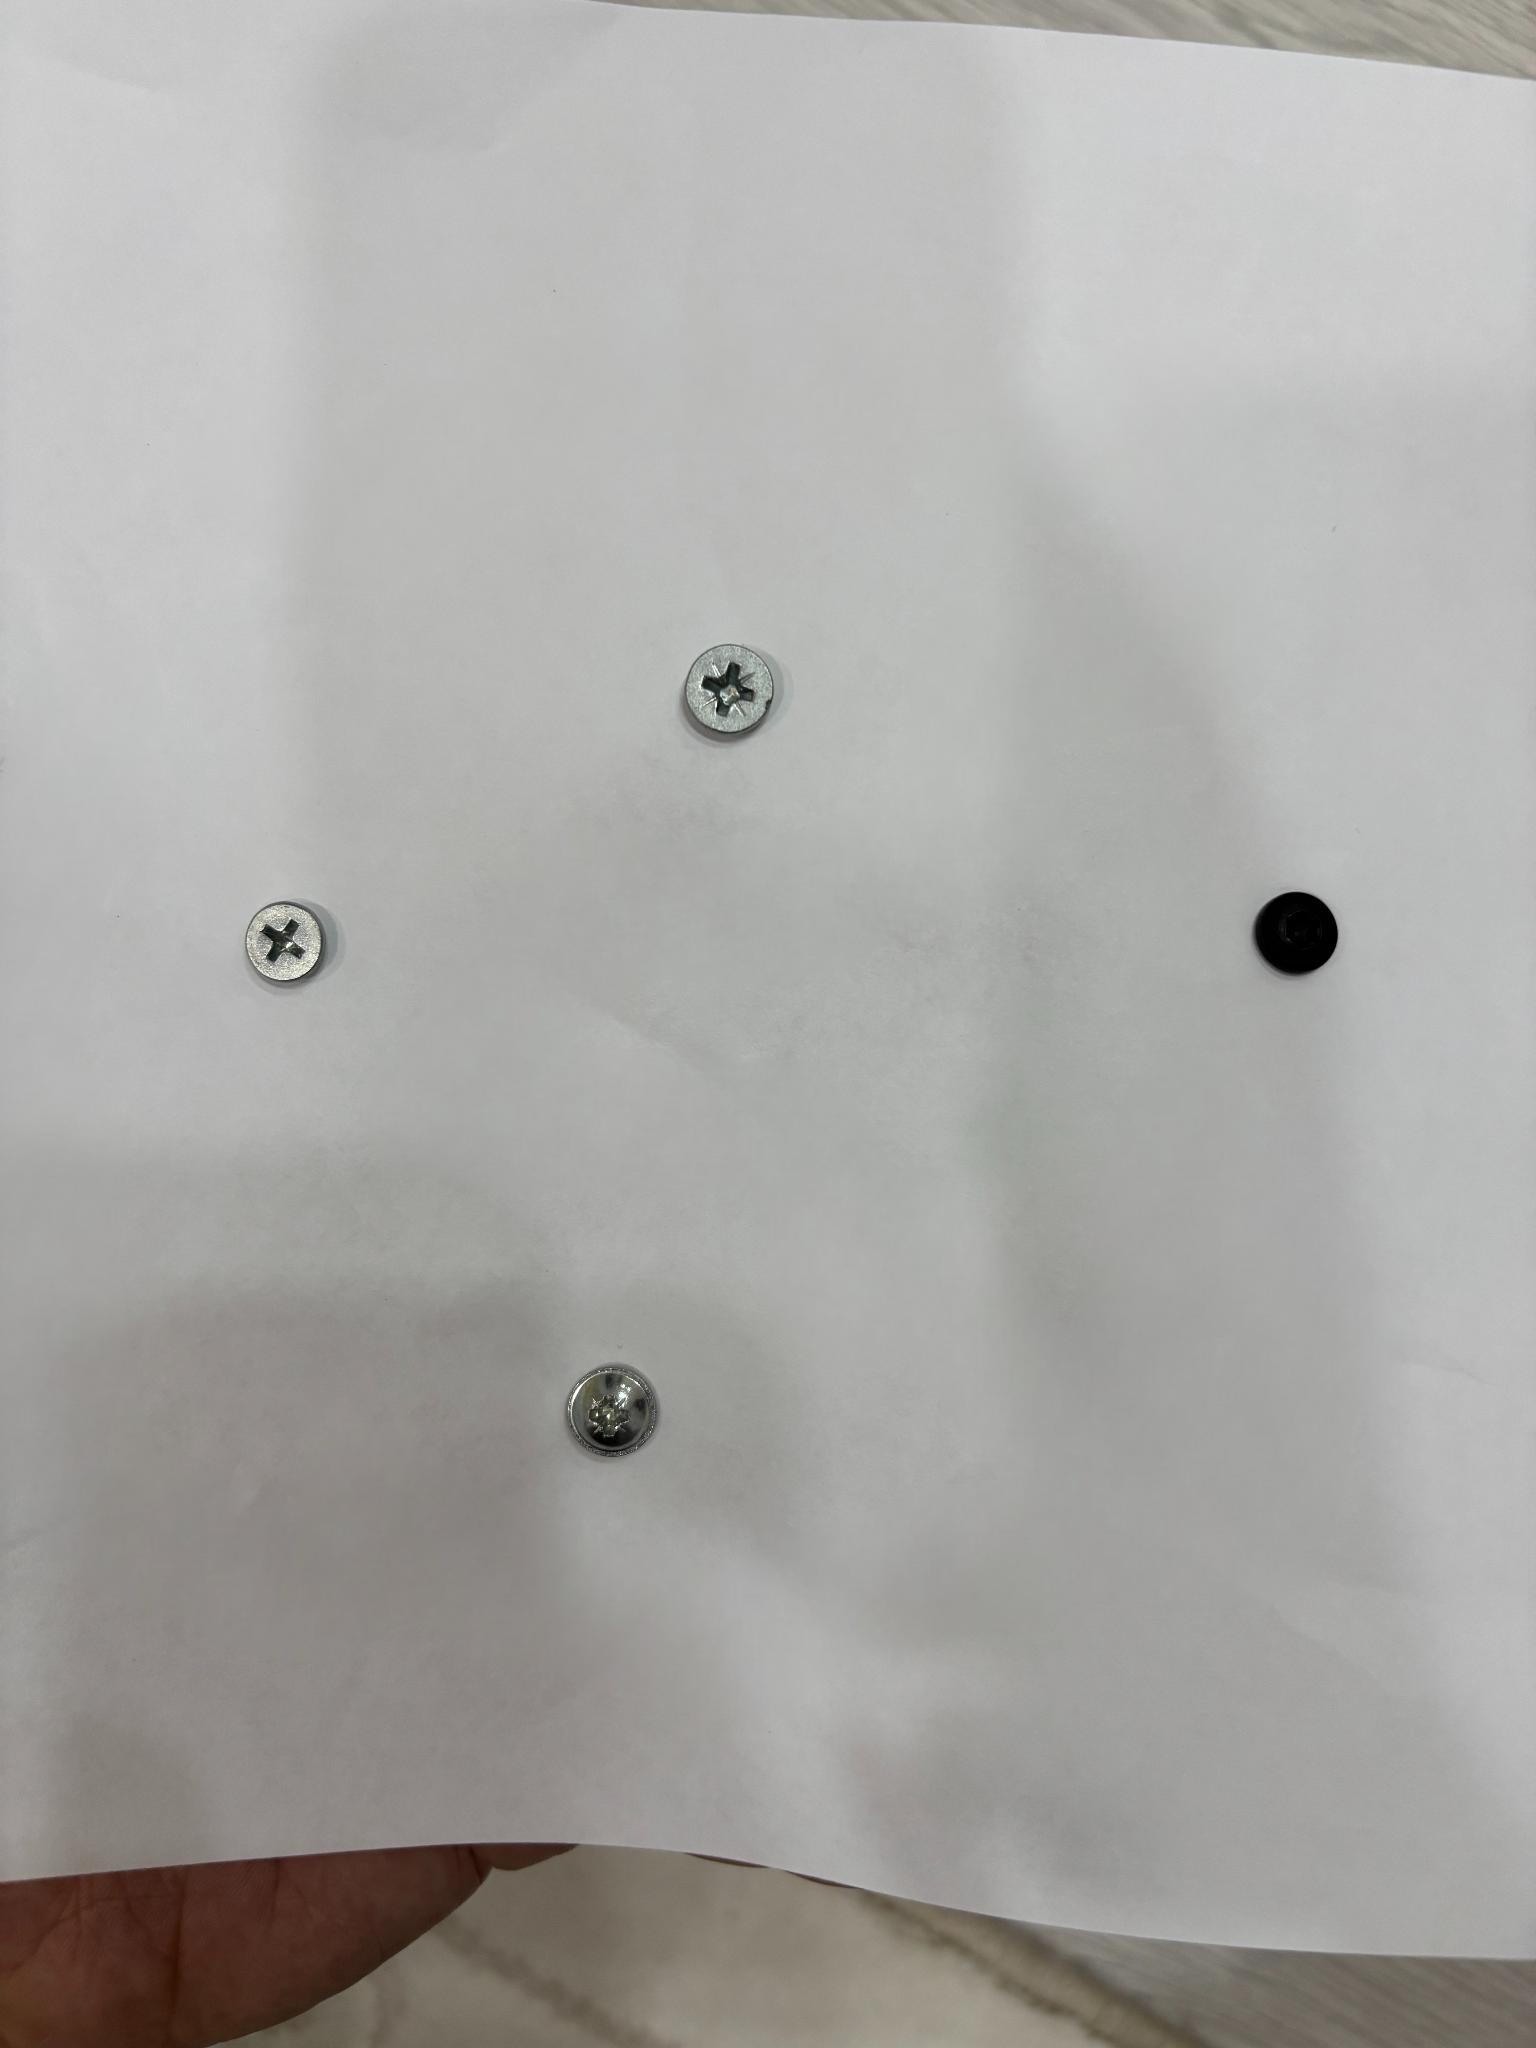H: (1255, 892, 1338, 974)
PH: (245, 903, 324, 982)
PZ: (684, 643, 774, 737), (568, 1366, 658, 1456)
